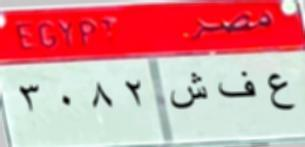0: (56, 90, 80, 114)
2: (122, 76, 146, 111)
3: (17, 78, 42, 114)
8: (88, 77, 114, 115)
ain: (265, 69, 296, 116)
faa: (216, 69, 256, 100)
sheen: (169, 71, 210, 115)
